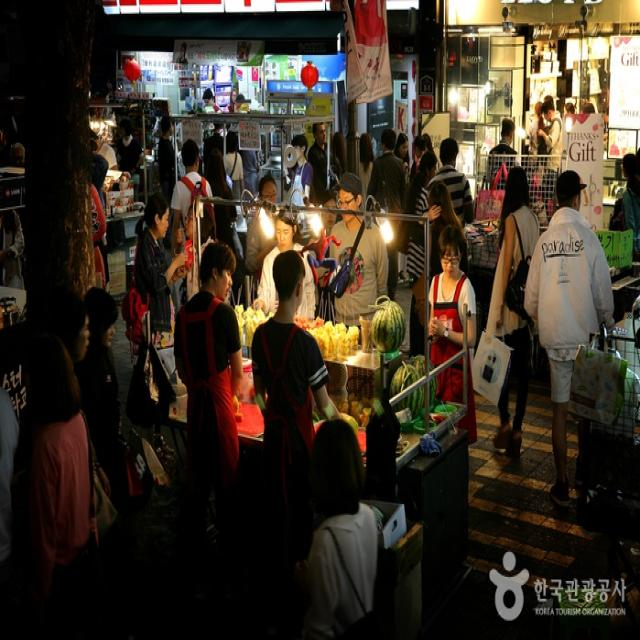body: (521, 165, 618, 508), (19, 329, 119, 640), (249, 249, 353, 526), (172, 238, 245, 607), (462, 163, 545, 456), (297, 415, 381, 640), (117, 186, 190, 432), (0, 125, 26, 637), (427, 223, 479, 447), (327, 173, 390, 328), (73, 284, 124, 475), (403, 148, 440, 362), (252, 209, 318, 324), (367, 128, 408, 302), (202, 143, 240, 310), (169, 198, 217, 312), (170, 137, 216, 246), (424, 136, 476, 232), (424, 177, 471, 280), (78, 124, 107, 288), (244, 169, 283, 275), (156, 114, 180, 253), (608, 152, 639, 255), (52, 294, 93, 364), (536, 100, 564, 201), (394, 130, 412, 286), (485, 117, 521, 191), (306, 118, 333, 209), (562, 98, 609, 144), (191, 82, 253, 116), (629, 144, 640, 324), (221, 129, 245, 206), (290, 132, 314, 206), (116, 117, 146, 176), (356, 130, 376, 202), (412, 132, 441, 174), (528, 99, 548, 155), (329, 130, 349, 182), (240, 125, 254, 198), (413, 134, 438, 174), (318, 188, 338, 236), (230, 37, 254, 65), (174, 37, 190, 66)
